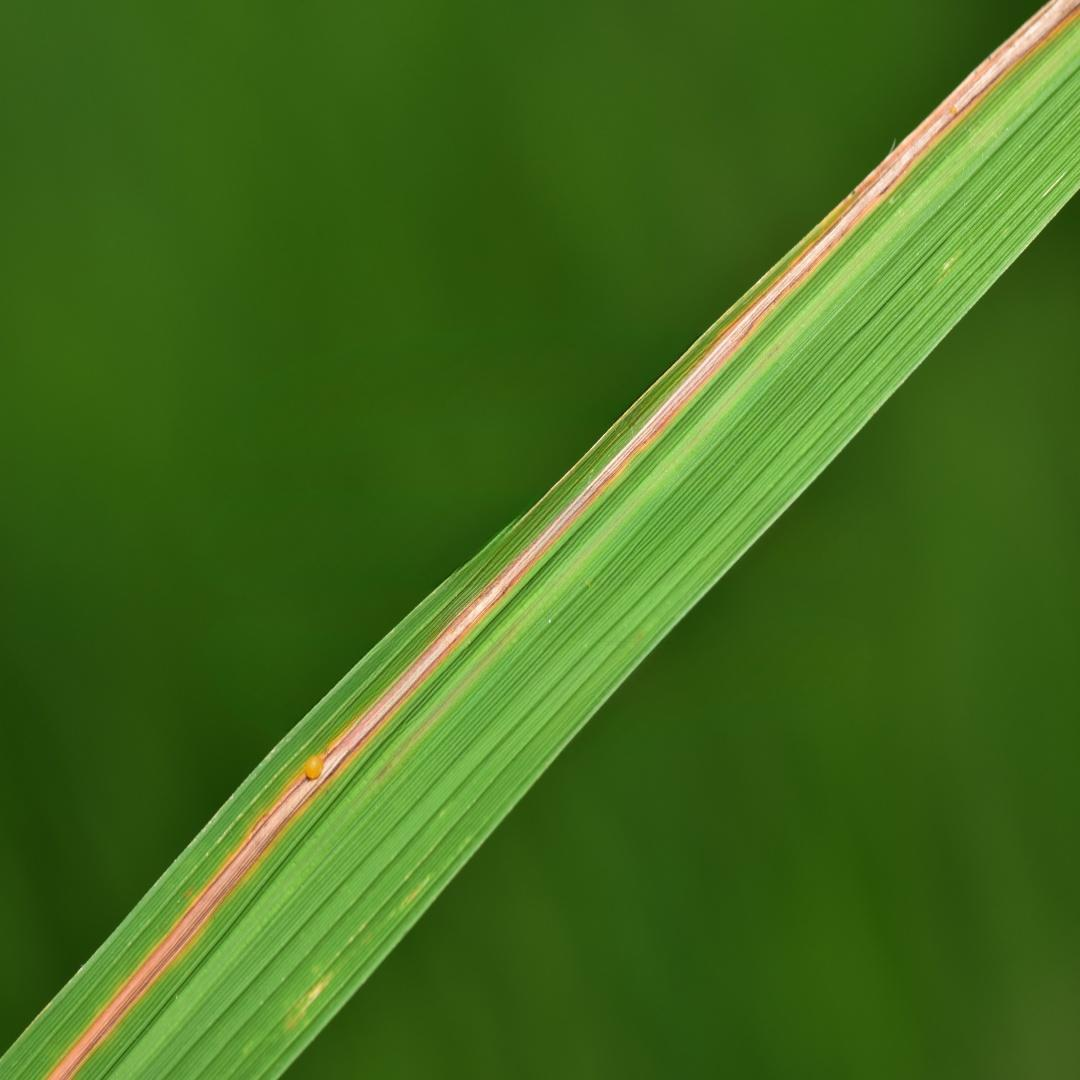BLB: (47, 0, 1079, 1079)
LEAF: (0, 0, 1079, 1079)
